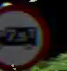Heavy Vehicles: (0, 3, 53, 67)
